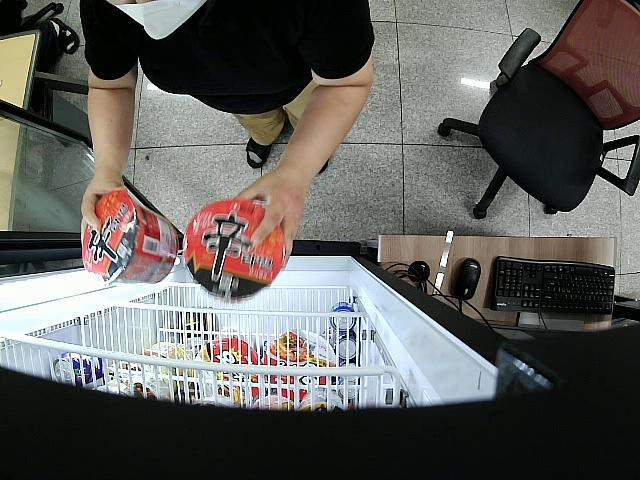00_hand: (235, 168, 304, 270), (79, 181, 127, 249)
01_shinRamen_L: (184, 200, 287, 303), (81, 191, 179, 286)
